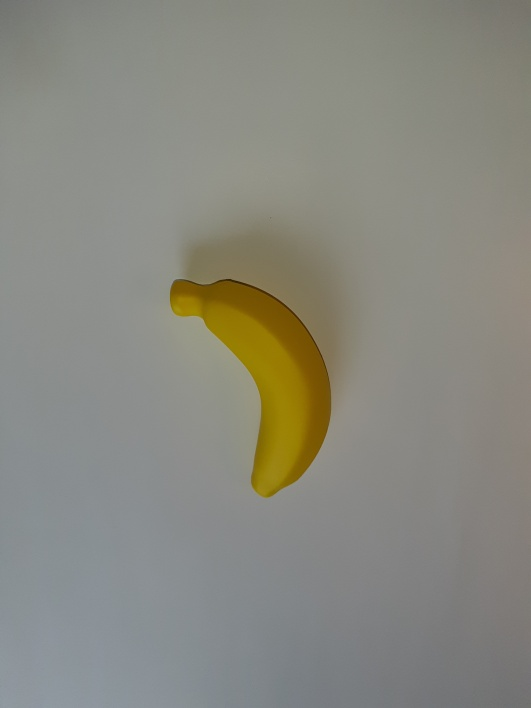banana: (184, 279, 329, 383)
